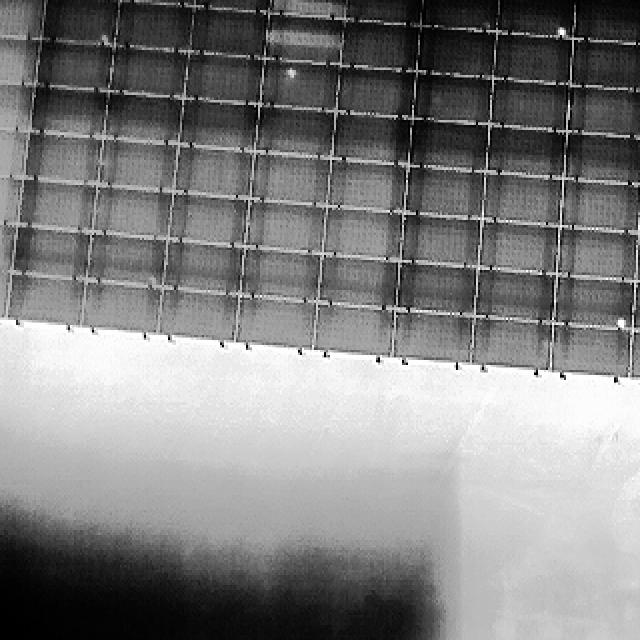Hotspots: (547, 18, 573, 40), (281, 65, 301, 84), (614, 316, 632, 335)
PV-modules: (156, 285, 240, 344), (80, 279, 164, 334), (550, 321, 631, 378), (161, 242, 243, 298), (22, 128, 104, 184), (239, 250, 323, 304), (394, 262, 476, 317), (253, 108, 336, 162), (310, 306, 393, 360), (4, 271, 84, 327), (472, 267, 553, 322), (393, 311, 474, 366), (314, 257, 398, 310), (86, 187, 170, 240), (85, 236, 167, 290), (320, 205, 400, 260), (480, 224, 561, 278), (484, 175, 565, 229), (236, 298, 318, 351), (469, 318, 549, 372), (106, 90, 184, 145), (172, 145, 252, 198), (17, 180, 97, 233), (96, 138, 176, 191), (187, 9, 267, 62), (247, 156, 328, 208), (555, 227, 634, 280), (398, 214, 480, 265), (245, 200, 327, 251), (166, 195, 246, 247), (401, 168, 481, 220), (494, 33, 574, 85), (178, 101, 258, 153), (488, 126, 568, 178), (409, 73, 492, 123), (326, 162, 403, 215), (408, 121, 488, 172), (562, 180, 640, 232), (106, 47, 184, 99), (28, 85, 106, 137), (550, 276, 628, 328), (11, 230, 89, 282), (333, 67, 412, 118), (490, 79, 569, 130), (259, 59, 336, 111), (328, 116, 408, 166), (417, 30, 497, 80), (112, 0, 190, 50), (182, 54, 260, 104), (34, 41, 110, 92), (268, 18, 344, 69), (338, 25, 417, 74), (564, 82, 640, 132), (566, 132, 640, 182), (566, 40, 640, 88), (42, 0, 118, 42), (568, 0, 640, 42), (498, 0, 574, 38), (422, 0, 500, 32), (0, 36, 37, 89), (340, 0, 418, 25), (0, 82, 33, 132), (0, 0, 42, 38), (270, 0, 348, 18), (0, 124, 23, 176), (0, 173, 18, 226), (192, 0, 268, 12), (116, 0, 194, 8), (628, 330, 640, 382), (630, 280, 640, 332), (634, 235, 640, 287), (636, 188, 640, 238), (42, 0, 118, 2)
